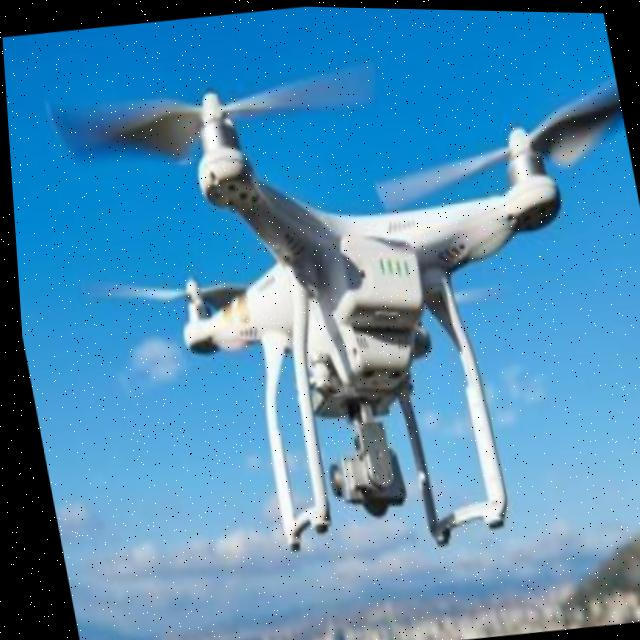drones: (0, 0, 640, 609)
